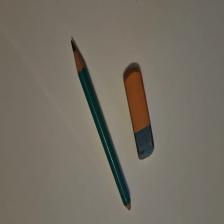eraser: (124, 70, 155, 162)
pencil: (72, 42, 132, 213)
